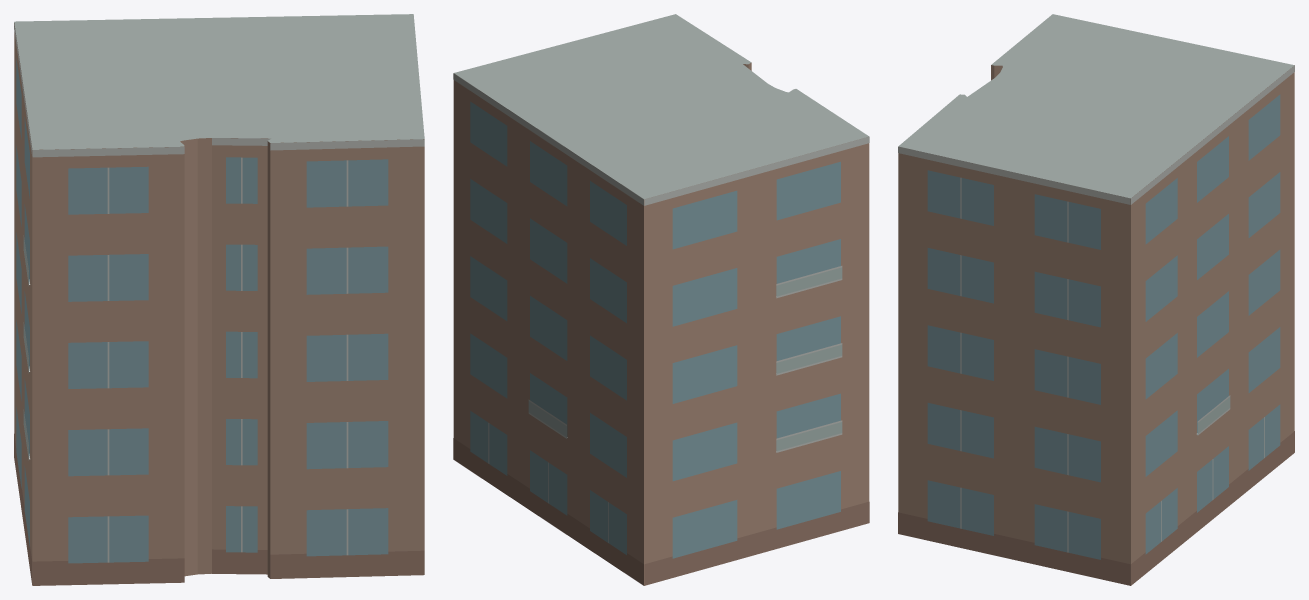
File: survey-upis-32884947.glb
The picture shows the model from 3 angles, left to right: view 1: azimuth 30°, elevation 25°; view 2: azimuth 150°, elevation 25°; view 3: azimuth 270°, elevation 25°; orthographic projection. The views are drawn at different scales.
Visible parts, largest first — view 1: survey-upis-32884947.tmp; view 2: survey-upis-32884947.tmp; view 3: survey-upis-32884947.tmp.
Boxes of the visible parts, x1=… form: survey-upis-32884947.tmp: x1=14, y1=14, x2=424, y2=585; survey-upis-32884947.tmp: x1=453, y1=14, x2=869, y2=585; survey-upis-32884947.tmp: x1=898, y1=14, x2=1294, y2=585.
Bounding box in the file's own units: 14.61 × 14.3 × 13.28.
